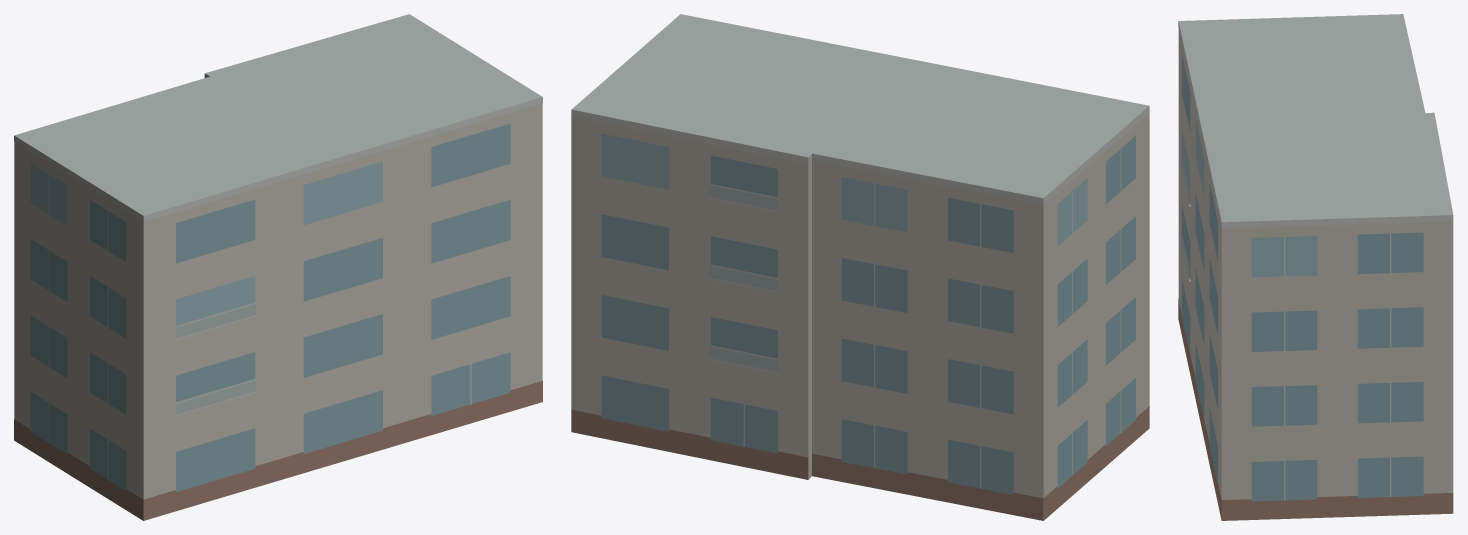
The model's file is survey-upis-32755216.glb.
3 renders of one model, left to right at view 1: azimuth 30°, elevation 25°; view 2: azimuth 150°, elevation 25°; view 3: azimuth 270°, elevation 25°, orthographic. The views are drawn at different scales.
Visible parts, largest first — view 1: survey-upis-32755216.tmp; view 2: survey-upis-32755216.tmp; view 3: survey-upis-32755216.tmp.
Boxes of the visible parts, x1=… form: survey-upis-32755216.tmp: x1=14, y1=14, x2=542, y2=520; survey-upis-32755216.tmp: x1=571, y1=14, x2=1149, y2=520; survey-upis-32755216.tmp: x1=1178, y1=14, x2=1453, y2=520.
Size of the model in its own units: 17.66 by 11.8 by 9.85.
